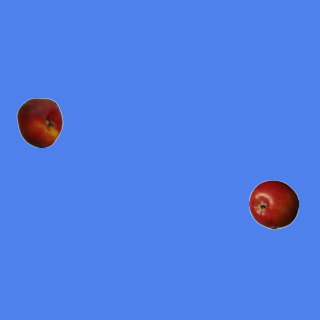Apple Braeburn: (248, 179, 298, 229)
Nectarine Flat: (14, 97, 64, 147)
